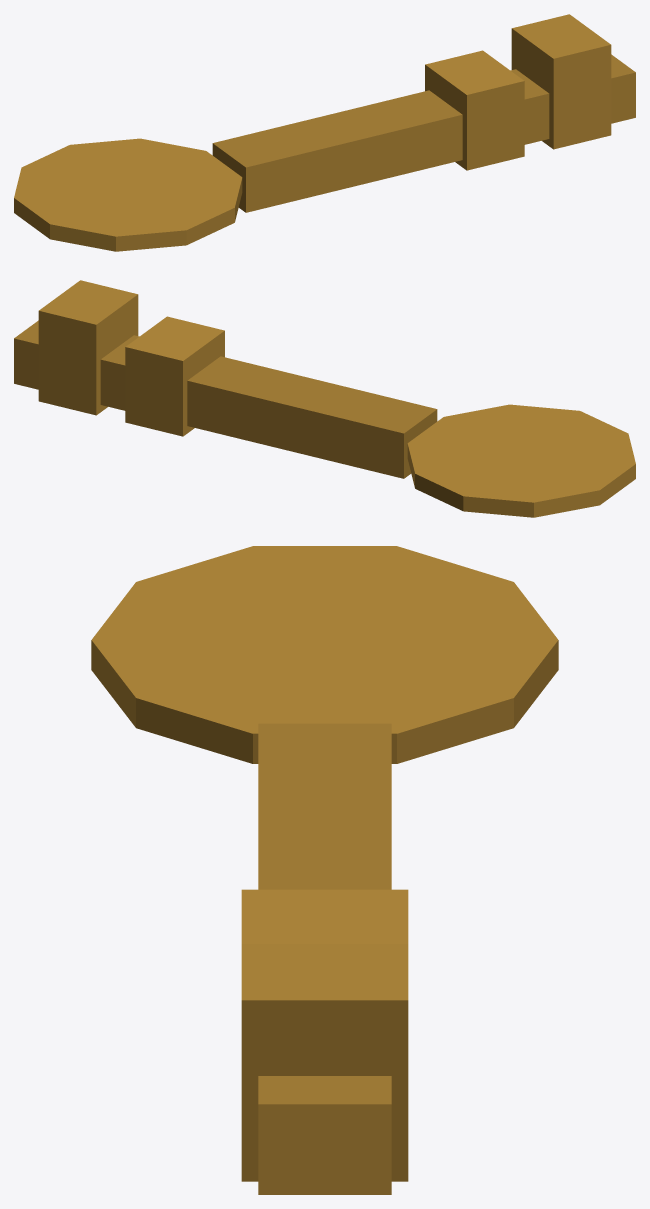
Rendered from kit_clue_key.glb.
3 views of the same model, one above another, from view 1: azimuth 30°, elevation 25°; view 2: azimuth 150°, elevation 25°; view 3: azimuth 270°, elevation 25° (orthographic). The views are drawn at different scales.
Parts seen in each view (by area): view 1: clue_key; view 2: clue_key; view 3: clue_key.
Boxes of the visible parts, <box> form: clue_key: <box>14,14,635,251</box>; clue_key: <box>14,280,635,517</box>; clue_key: <box>91,546,558,1194</box>.
Bounding box in the file's own units: 0.4066 × 0.06 × 0.14.
